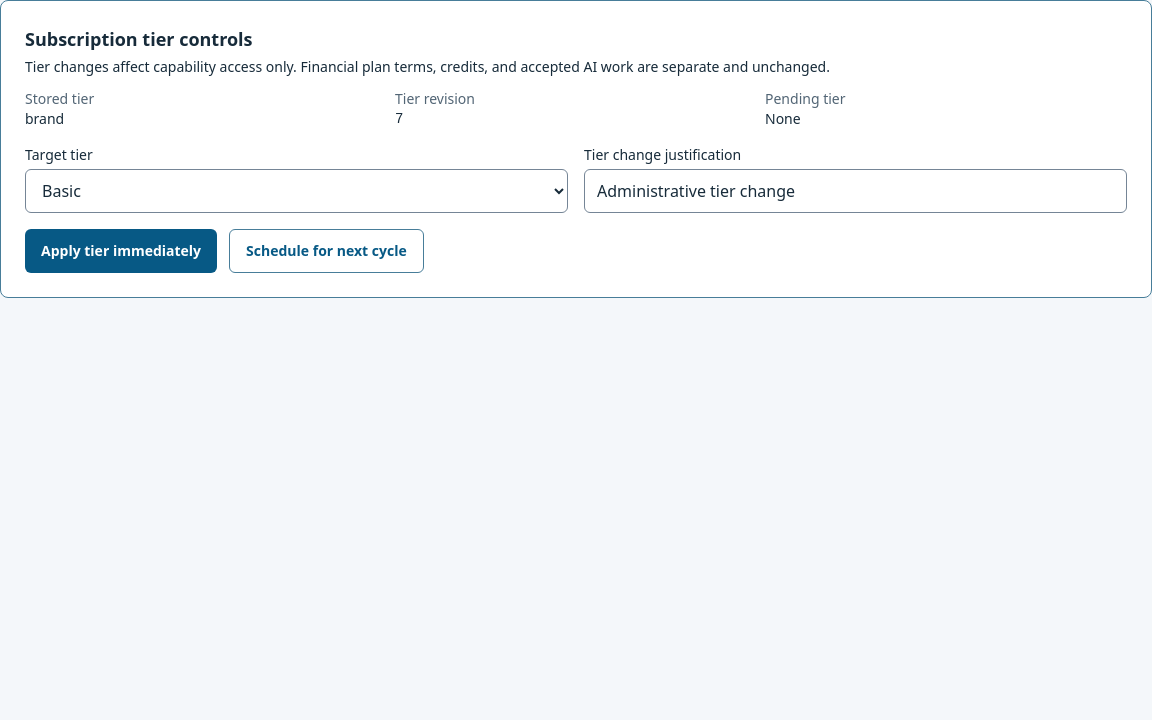
Test case: SubscriptionTierControls › names each mixed grace deadline and distinguishes continuing grace
Click the button "Schedule for next cycle" at (326, 251), box [229,229,424,273]
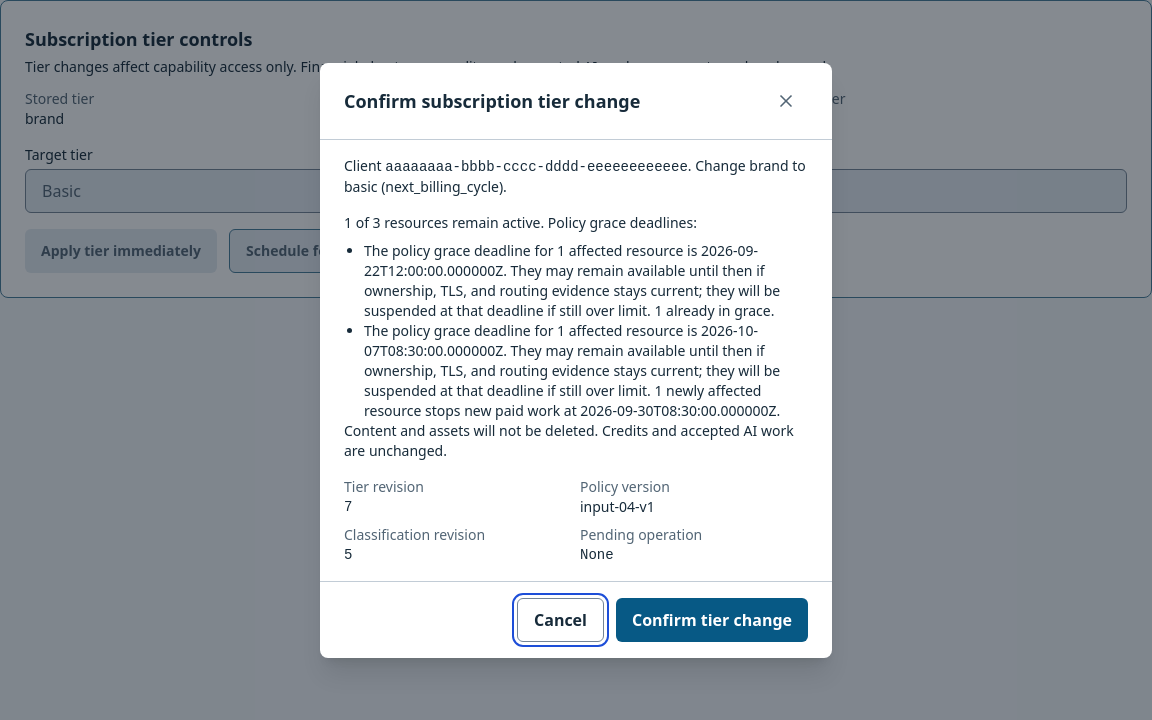
Now the dialog shows "1 already in grace", box [320,62,832,658]
Now the dialog shows "2026-09-22T12:00:00.000000Z", box [364,240,758,280]
Now the dialog shows "2026-10-07T08:30:00.000000Z", box [364,320,758,360]
